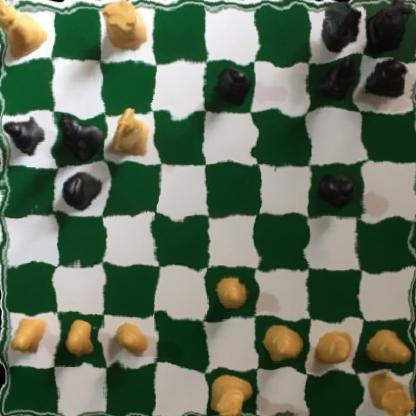black-bishop: (313, 50, 360, 106)
black-king: (54, 110, 102, 162)
black-knight: (315, 0, 361, 58)
black-pawn: (359, 53, 410, 102), (2, 112, 43, 160), (61, 170, 102, 213), (214, 64, 249, 109), (319, 169, 356, 211)
black-rook: (359, 0, 413, 58)
white-king: (204, 374, 252, 416)
white-knight: (108, 98, 155, 163)
white-pawn: (311, 323, 355, 373), (366, 326, 412, 370), (59, 317, 102, 363), (5, 315, 50, 355), (261, 324, 302, 367), (212, 271, 250, 316), (108, 322, 147, 359)
white-queen: (0, 0, 46, 56)
white-rook: (356, 369, 416, 416), (96, 0, 149, 53)
